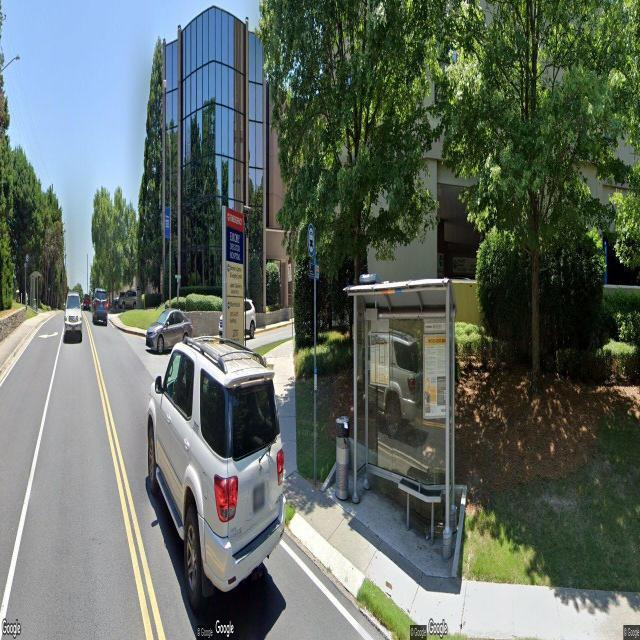seating: (398, 474, 443, 547)
shelter: (343, 276, 458, 556)
trash_can: (336, 415, 350, 500)
